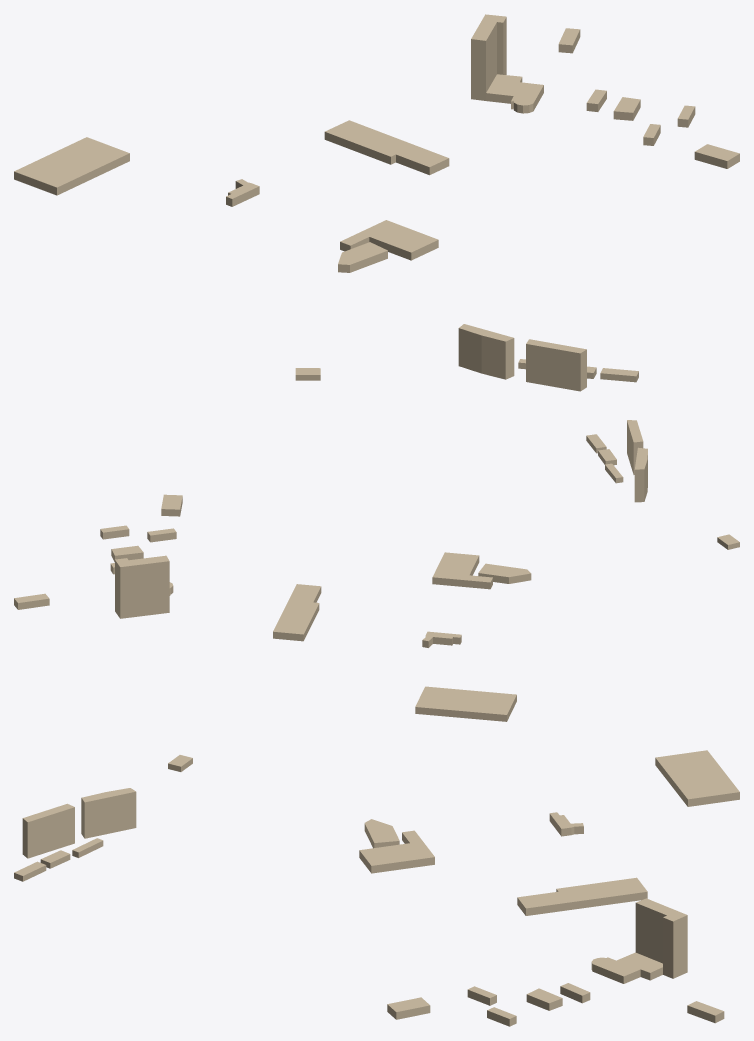
File: -15_-5-estimated-coarse.glb
3 renders of one model, top to bottom at view 1: azimuth 30°, elevation 25°; view 2: azimuth 150°, elevation 25°; view 3: azimuth 270°, elevation 25°, orthographic. The views are drawn at different scales.
Bounding box in the file's own units: 904 × 90 × 1032.
